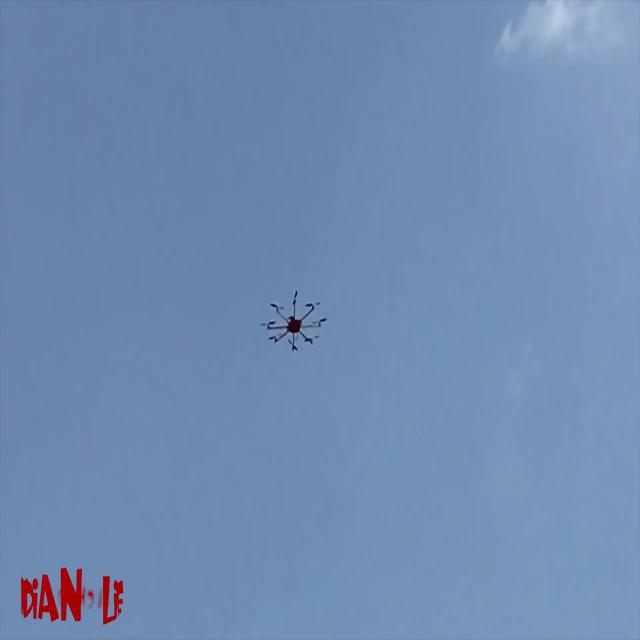drone: (240, 253, 332, 363)
